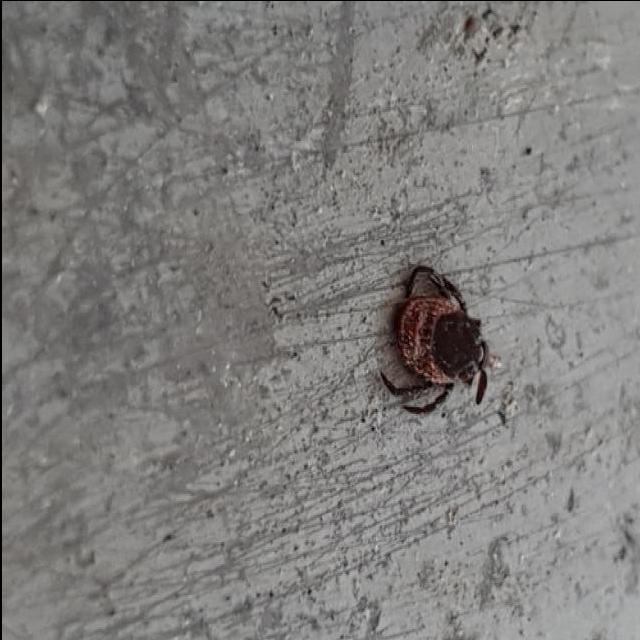Ixodes Ricinus-F: (378, 263, 497, 415)
